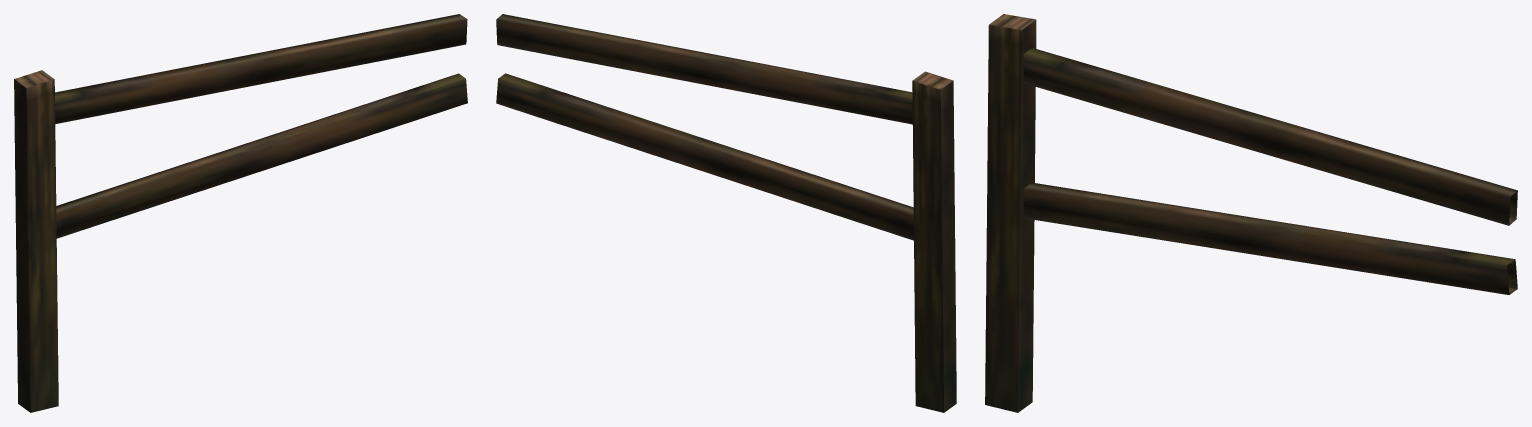
Rendered from general_obj_fence02_01.fbx.
3 views of the same model, side by side, from view 1: azimuth 30°, elevation 25°; view 2: azimuth 150°, elevation 25°; view 3: azimuth 330°, elevation 25° (orthographic). The views are drawn at different scales.
Visible parts, largest first — view 1: Sphere01; view 2: Sphere01; view 3: Sphere01.
Boxes of the visible parts, x1,y1,x2,y2 form: Sphere01: (14,14,467,412); Sphere01: (496,14,956,412); Sphere01: (985,14,1517,412).
Bounding box in the file's own units: 3.19 × 2.23 × 0.2022.
